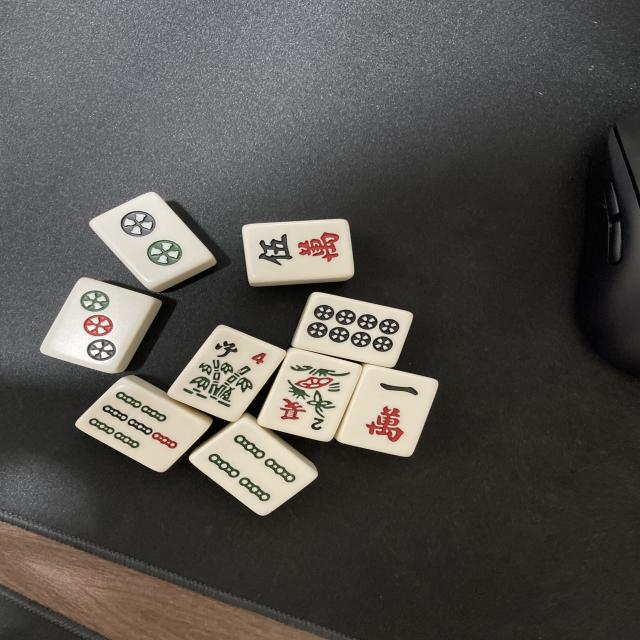1C: (336, 368, 434, 458)
2D: (90, 190, 214, 288)
2S: (257, 350, 359, 442)
3D: (40, 276, 149, 374)
4B: (190, 422, 309, 518)
4F: (170, 327, 282, 424)
5C: (242, 219, 351, 281)
7B: (79, 382, 207, 476)
8D: (298, 296, 415, 370)
